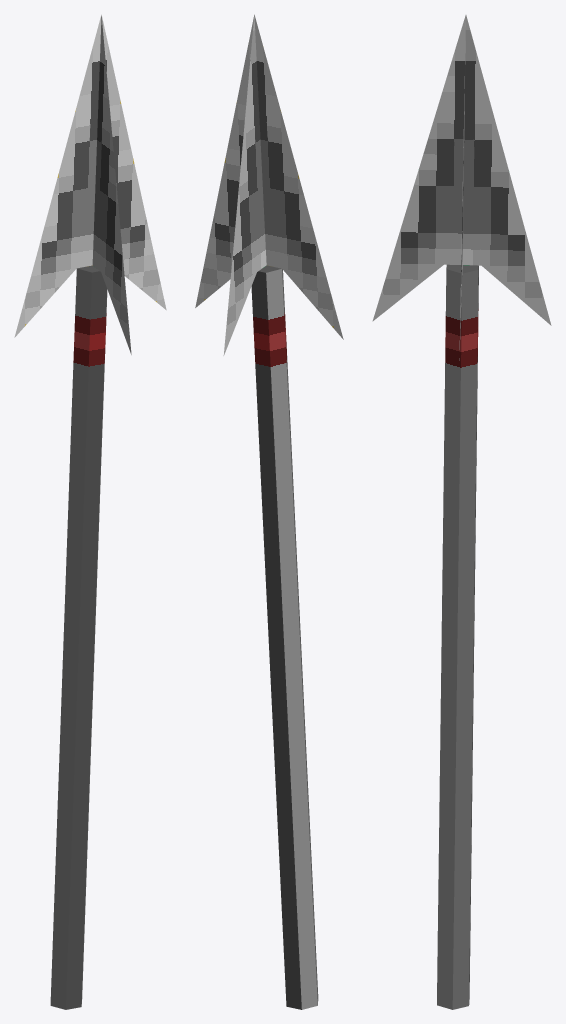
The model's file is Spears.gltf.
3 renders of one model, left to right at view 1: azimuth 30°, elevation 25°; view 2: azimuth 150°, elevation 25°; view 3: azimuth 270°, elevation 25°, orthographic. The views are drawn at different scales.
Visible parts, largest first — view 1: Spear_PC; view 2: Spear_PC; view 3: Spear_PC.
Boxes of the visible parts, x1,y1,x2,y2 form: Spear_PC: [14, 14, 166, 1009]; Spear_PC: [195, 14, 343, 1009]; Spear_PC: [372, 15, 551, 1009].
Bounding box in the file's own units: 0.2707 × 1.68 × 0.271.
1 material, 1 textured.
